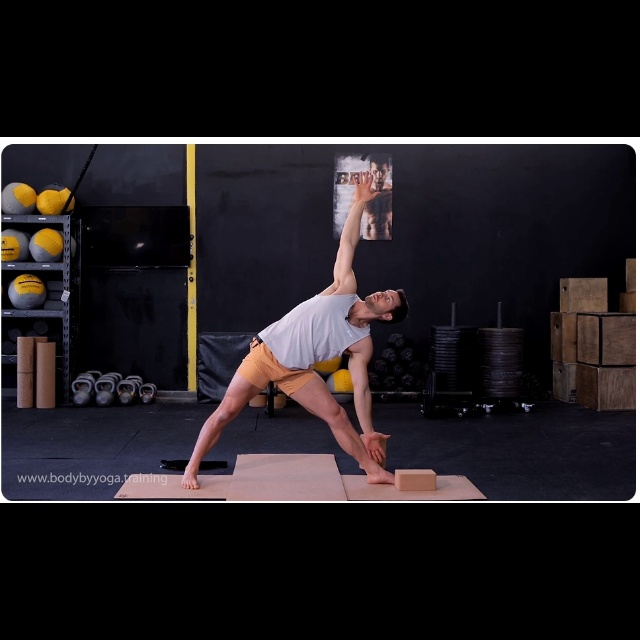Triangle_Pose: (171, 165, 416, 497)
